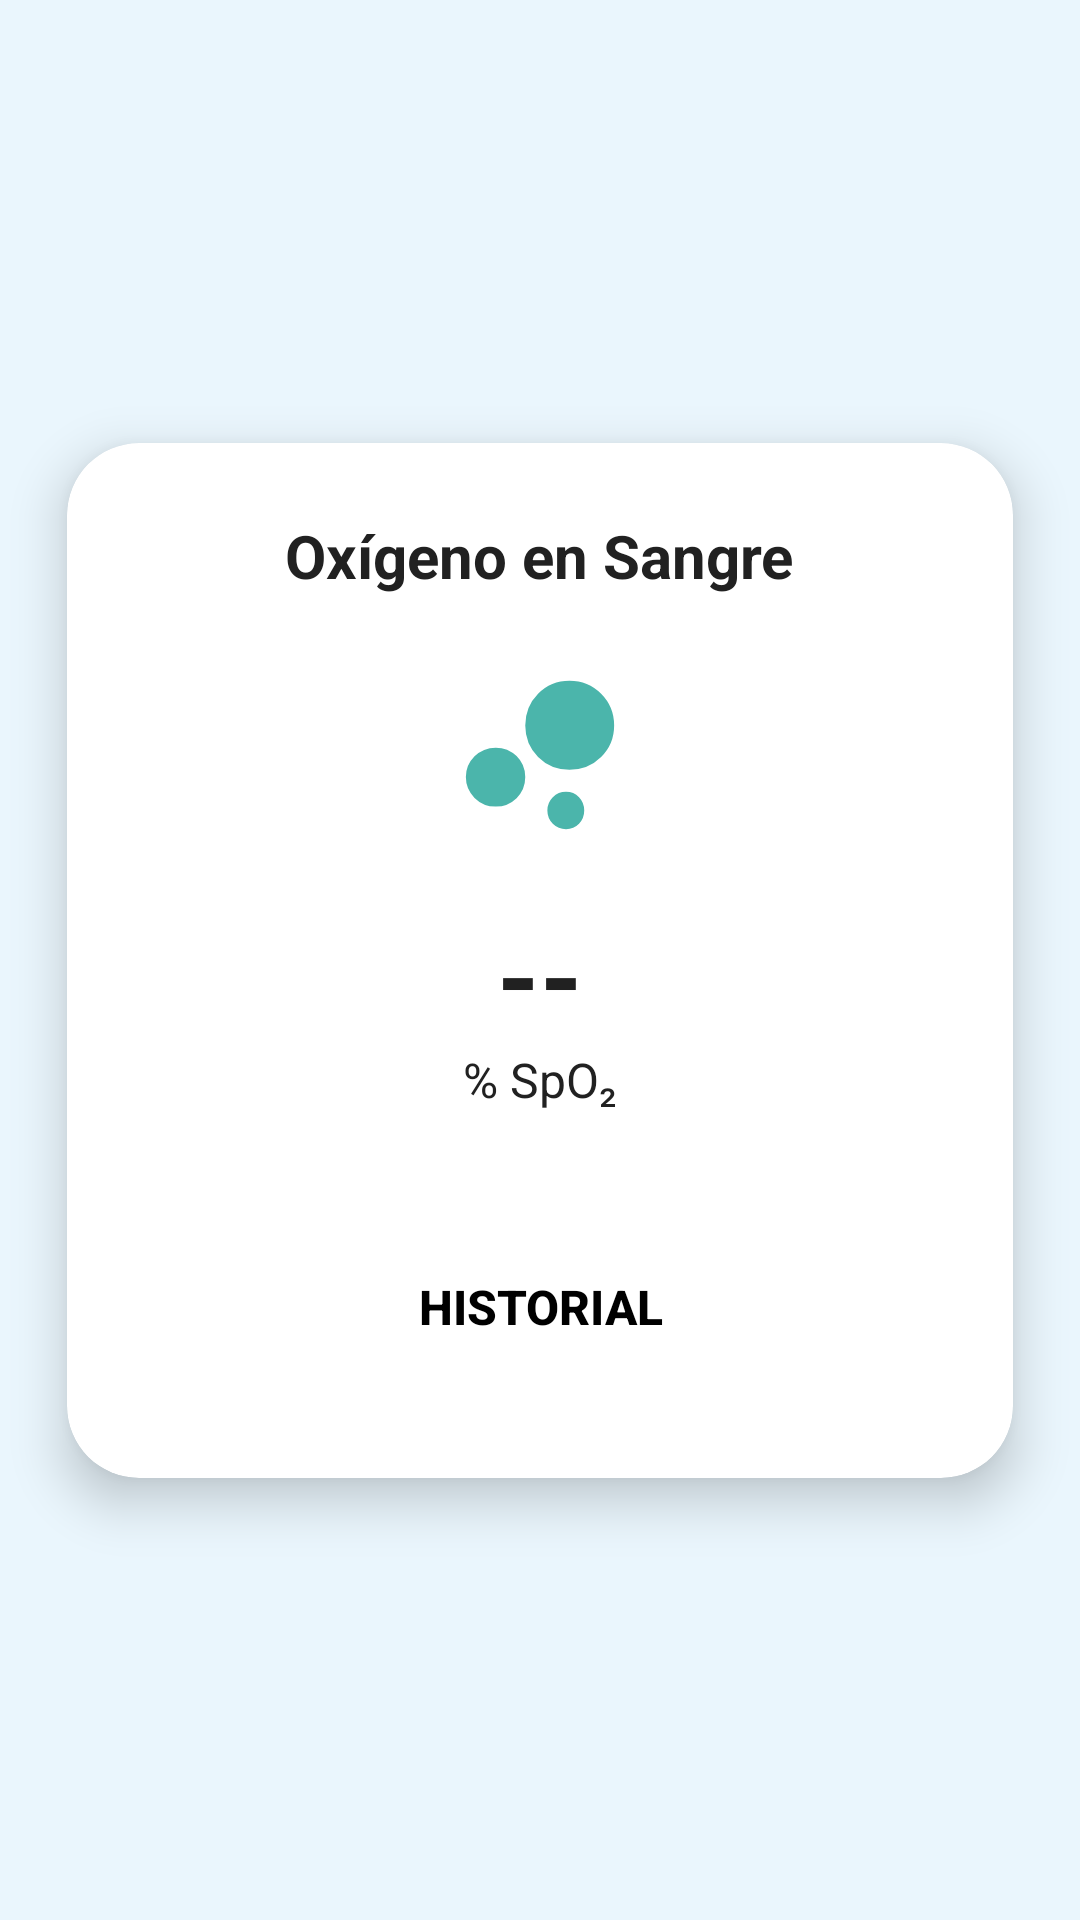

Icons on this 1080 x 1920 Android screen, each with its box as (x1, y1, x2, y2):
bubble chart: (466, 680, 614, 830)
